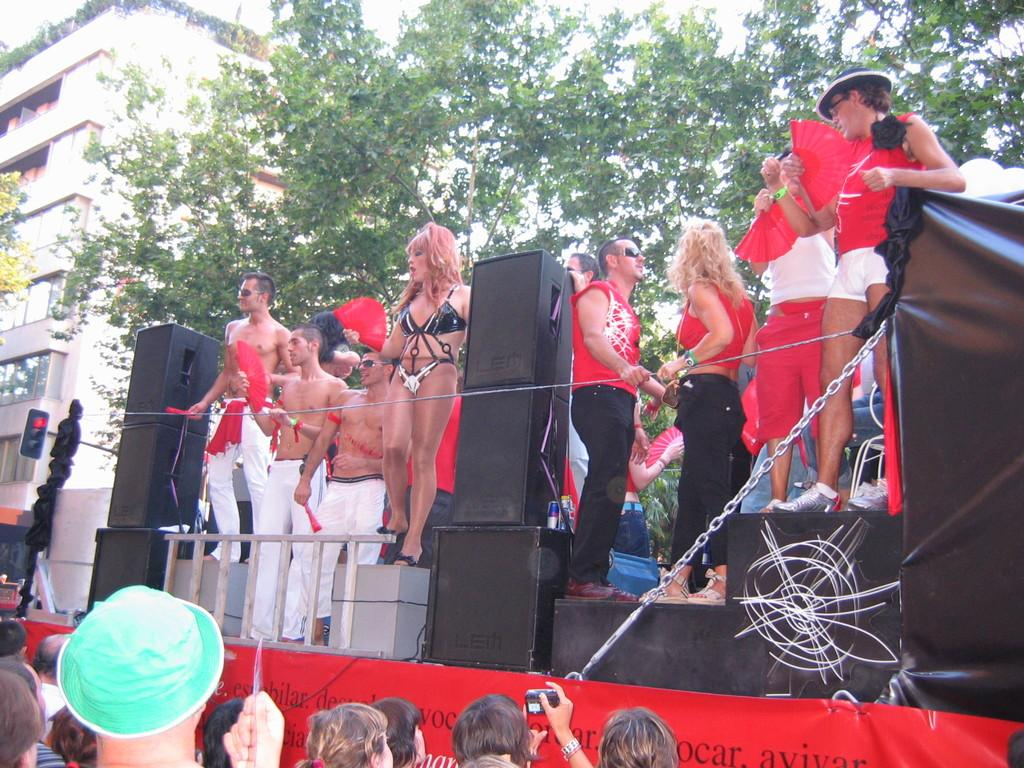Hat: (54, 580, 226, 738), (816, 63, 894, 124), (958, 157, 1022, 202)
